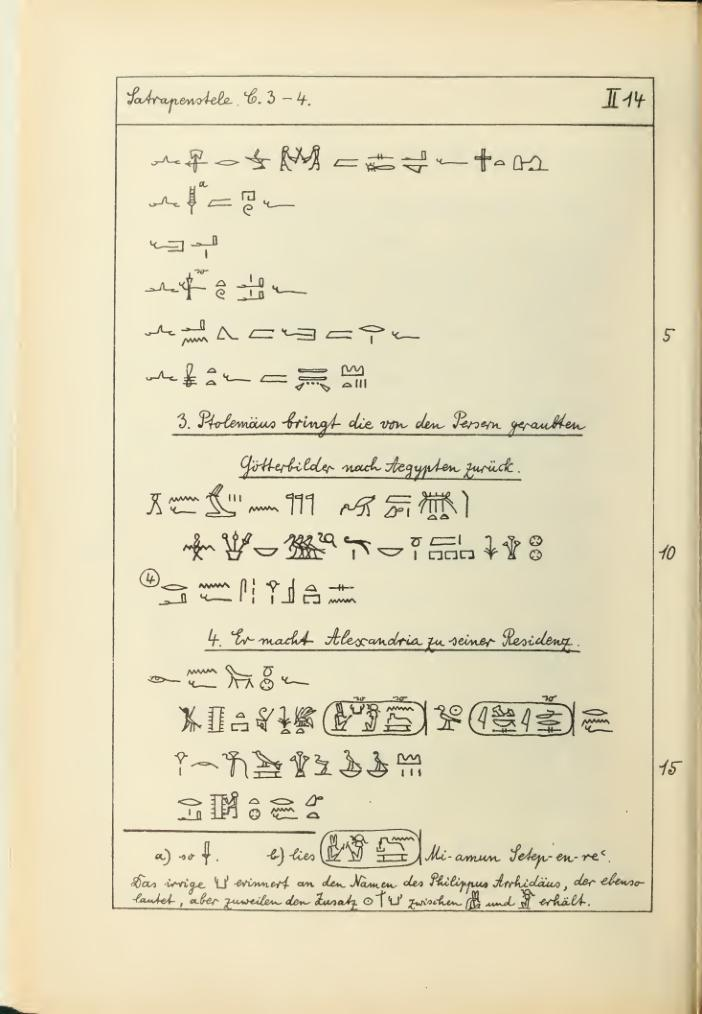circle: (461, 674, 608, 759), (307, 681, 450, 761), (297, 814, 450, 874)
